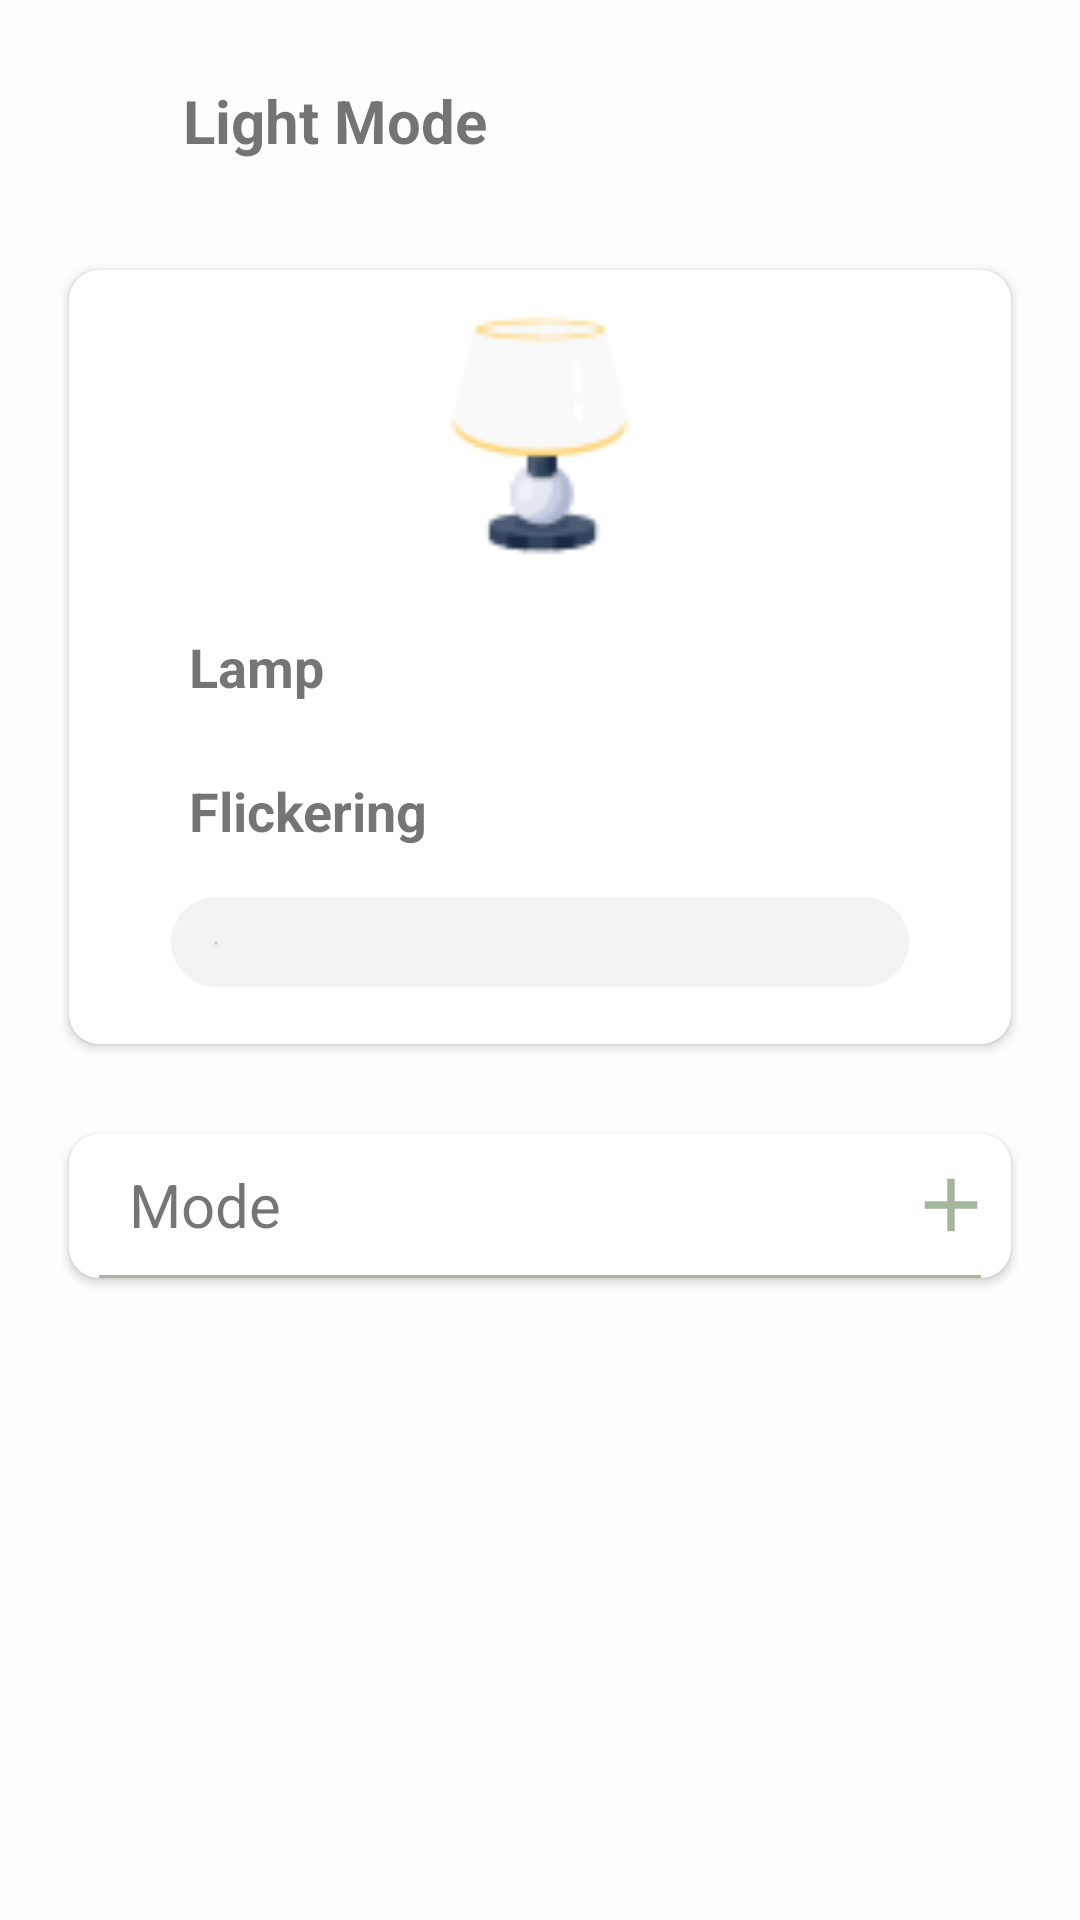

Named icons in this screenshot (1080px x 1920px) and their bounding boxes, box(x1, y1, x2, y2):
add: box(925, 1153, 1011, 1231)
